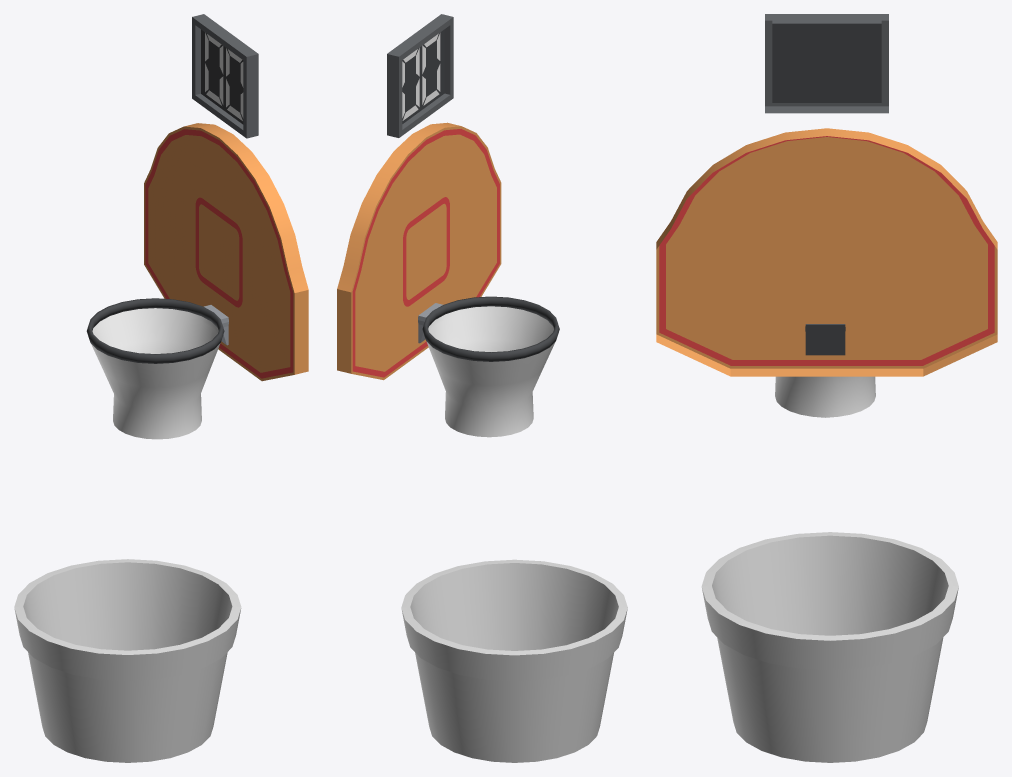
Rendered from Basket_Set.FBX.
3 views of the same model, side by side, from view 1: azimuth 30°, elevation 25°; view 2: azimuth 150°, elevation 25°; view 3: azimuth 270°, elevation 25° (orthographic). The views are drawn at different scales.
Visible parts, largest first — view 1: Tablero, Cesta; view 2: Tablero, Cesta; view 3: Tablero, Cesta.
Boxes of the visible parts, x1,y1,x2,y2 form: Tablero: (86, 14, 308, 439); Cesta: (14, 559, 241, 762); Tablero: (337, 14, 559, 437); Cesta: (401, 559, 627, 762); Tablero: (656, 14, 997, 417); Cesta: (701, 532, 958, 762).
Size of the model in its own units: 88.54 by 114 by 279.
